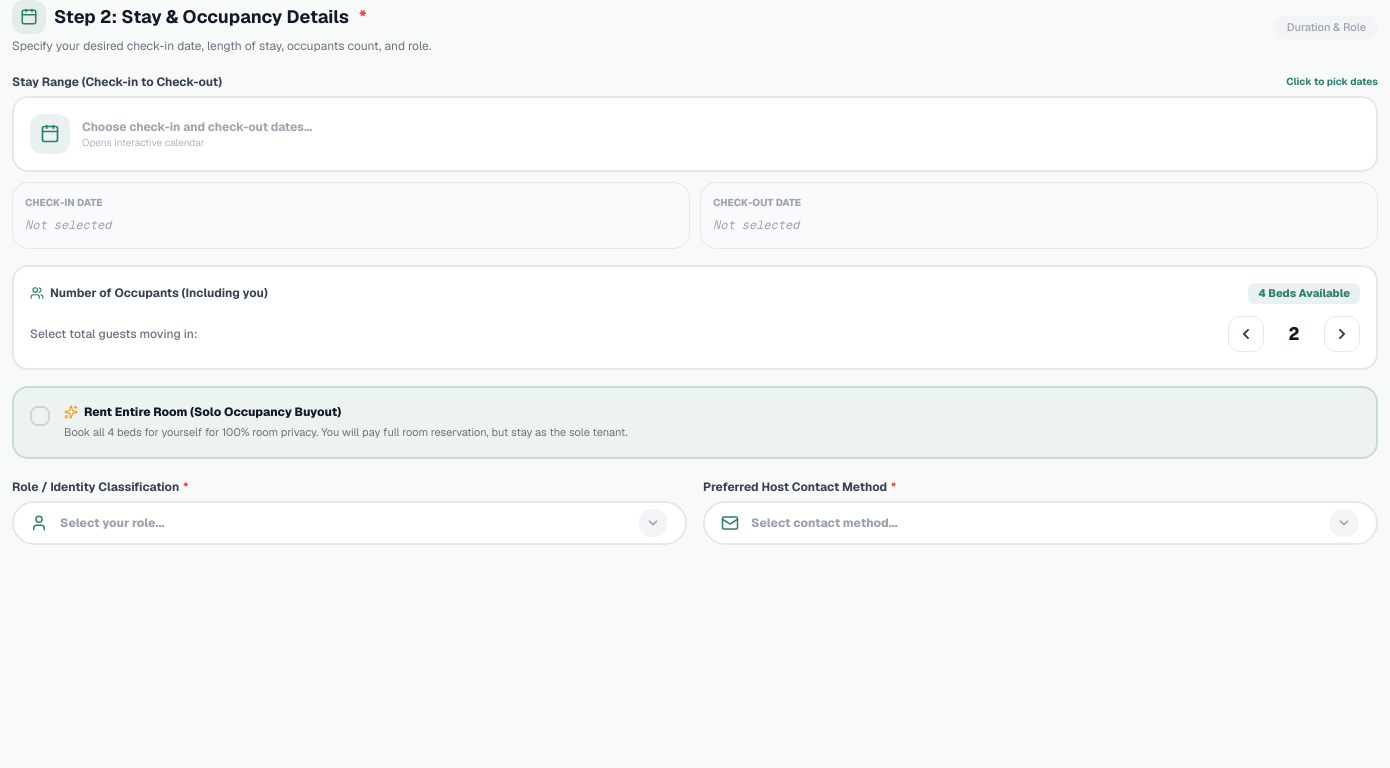
Test case: StayStep Component › updates occupant count when solo buyout is checked
Expected: the text "2" is shown, [1289,322,1299,344]
Click the checkbox at (40, 416), box [30,406,50,426]
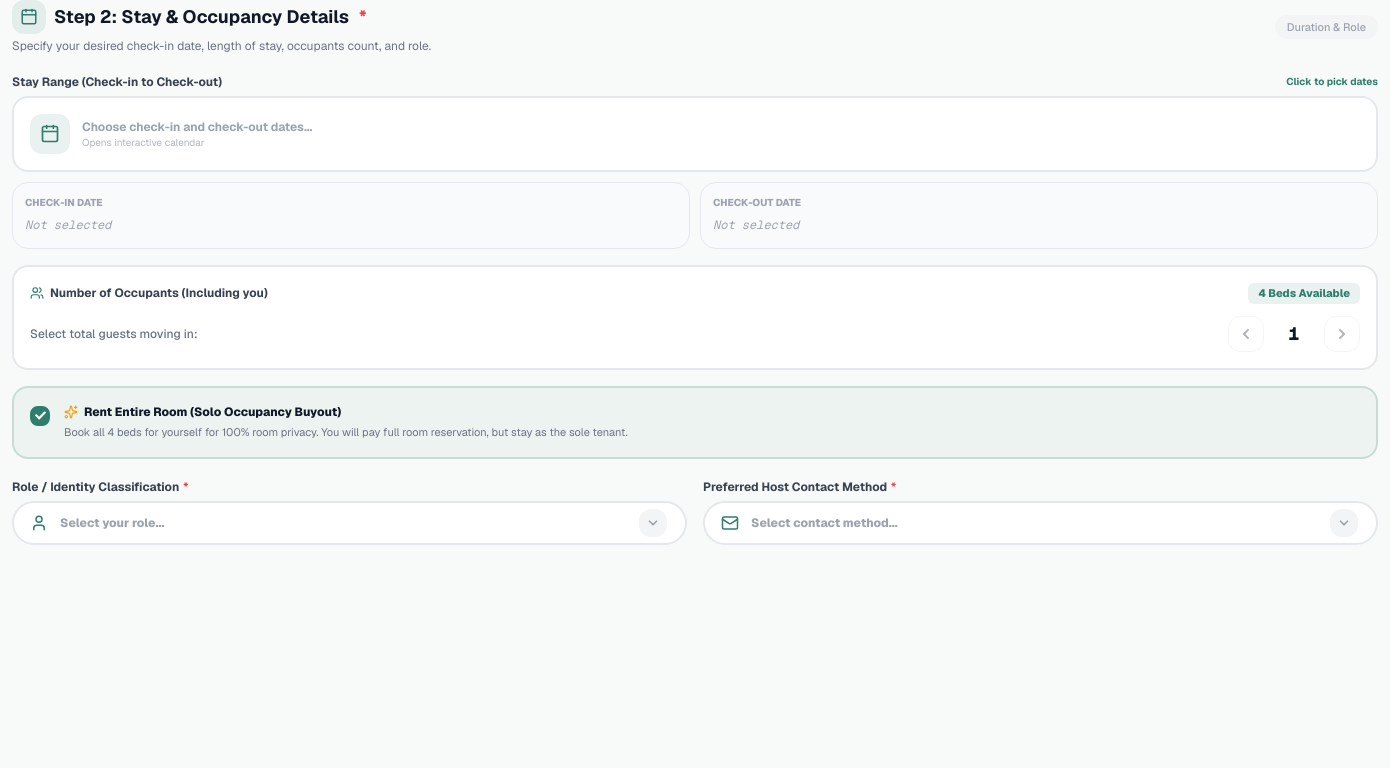
Result: the text "1" is shown at [1289,322,1299,344]
